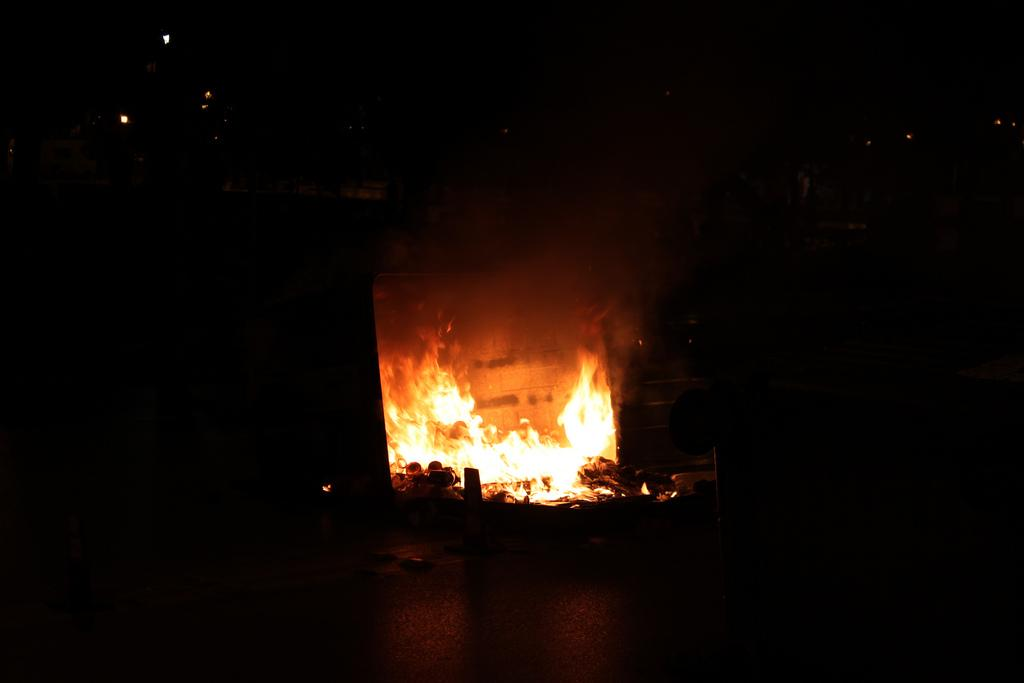fire: (387, 365, 468, 467), (482, 438, 570, 497), (577, 390, 610, 467)
